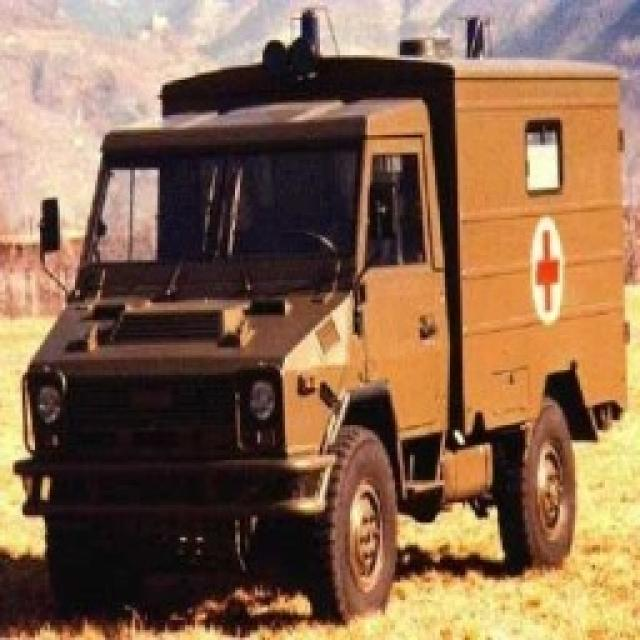emergency-vehicle: (40, 7, 640, 640)
